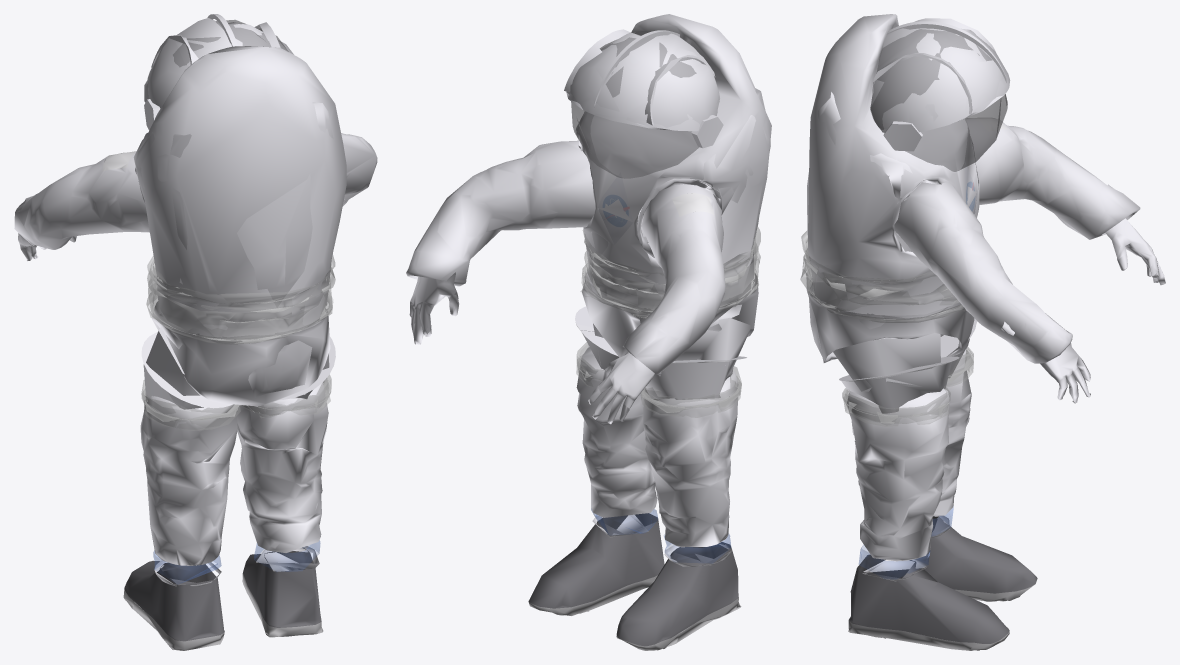
Rendered from mark-iii-spacesuit.glb.
3 views of the same model, side by side, from view 1: azimuth 30°, elevation 25°; view 2: azimuth 150°, elevation 25°; view 3: azimuth 270°, elevation 25° (orthographic). The views are drawn at different scales.
Parts seen in each view (by area): view 1: Mark III Spacesuit; view 2: Mark III Spacesuit; view 3: Mark III Spacesuit.
Boxes of the visible parts, left/top/right/bottom form: Mark III Spacesuit: left=14, top=14, right=377, bottom=650; Mark III Spacesuit: left=406, top=14, right=771, bottom=650; Mark III Spacesuit: left=800, top=14, right=1165, bottom=650.
Bounding box in the file's own units: 1.11 × 1.99 × 1.12.
4 materials, 4 textured.
